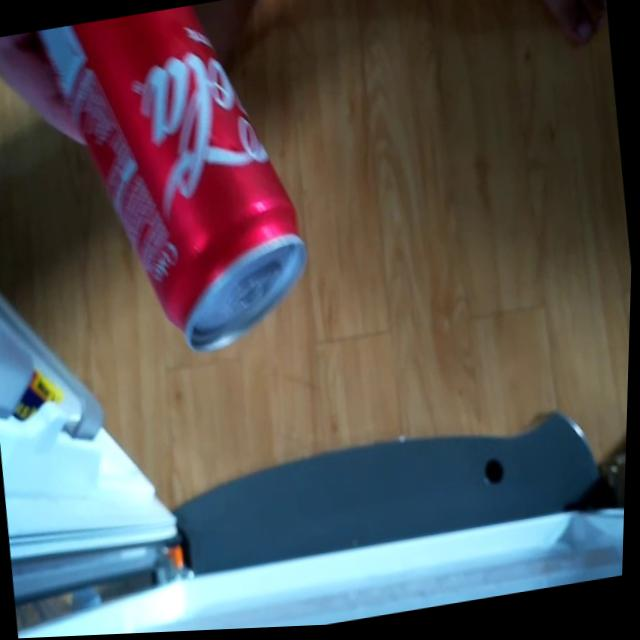coke: (33, 0, 325, 379)
